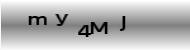4: (77, 24, 91, 37)
J: (119, 15, 126, 31)
M: (90, 21, 108, 35)
m: (27, 15, 47, 26)
y: (53, 13, 70, 27)
